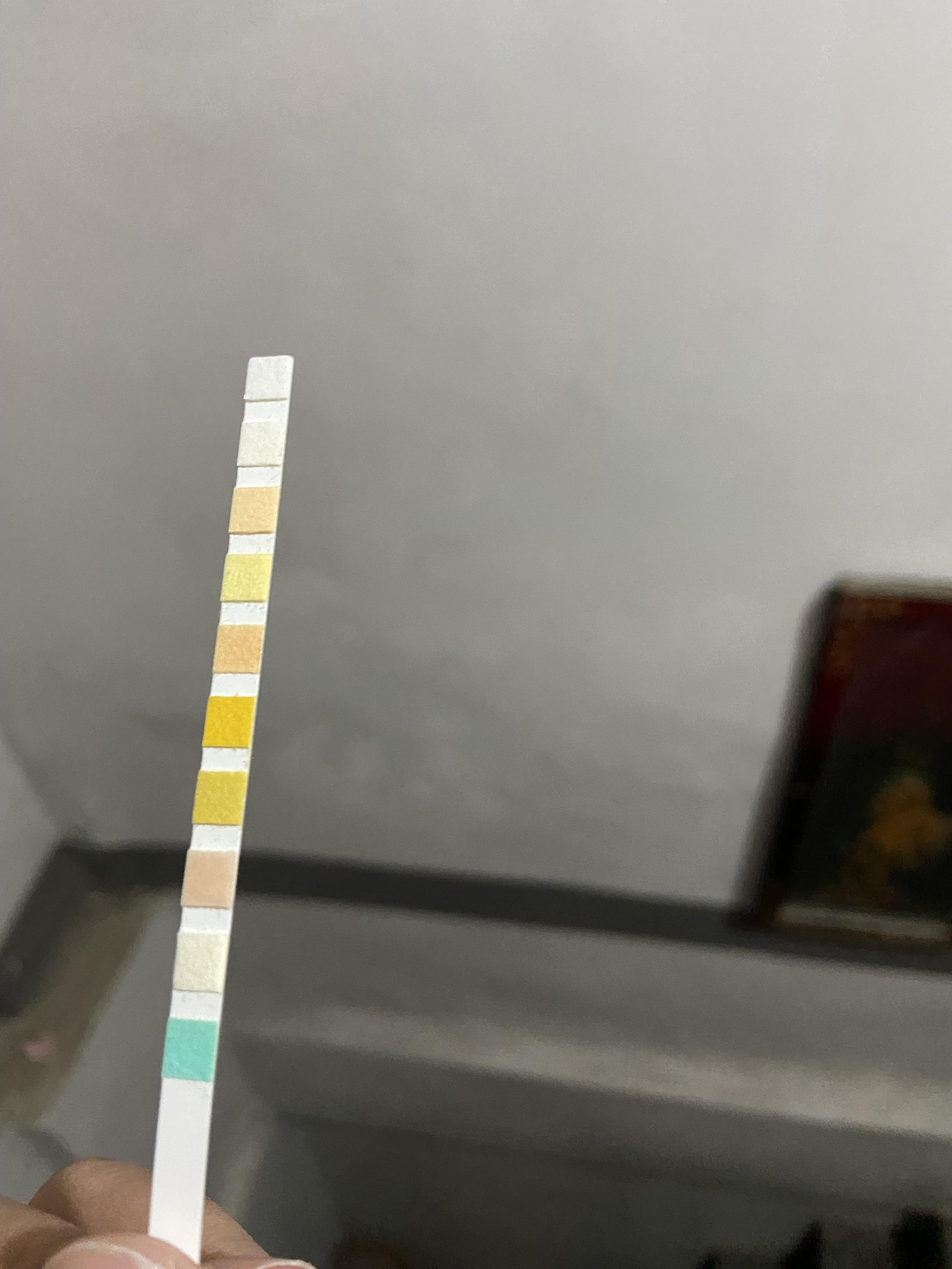Bilirubin: (178, 937, 223, 986)
Blood: (209, 700, 250, 745)
Glucose: (168, 1022, 213, 1075)
Ketone: (187, 857, 231, 904)
Leukocytes: (250, 359, 287, 397)
Nitrite: (242, 424, 282, 465)
Protein: (224, 558, 269, 600)
SpGravity: (198, 776, 240, 822)
Urobilinogen: (234, 489, 274, 533)
pH: (217, 628, 259, 671)
strip: (149, 356, 294, 1233)
